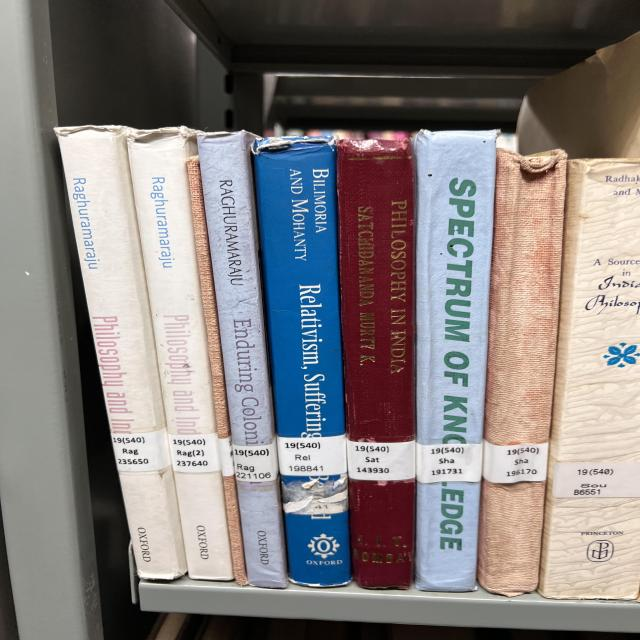Book: (57, 126, 187, 579), (127, 128, 233, 580), (538, 159, 640, 599), (255, 138, 350, 586), (198, 131, 287, 588), (477, 150, 567, 596), (413, 130, 498, 591), (337, 138, 415, 589)
Label: (552, 462, 640, 498), (277, 435, 347, 476), (483, 440, 548, 484), (347, 440, 415, 481), (417, 442, 483, 484), (112, 429, 172, 471), (168, 434, 220, 472), (232, 441, 278, 482)
